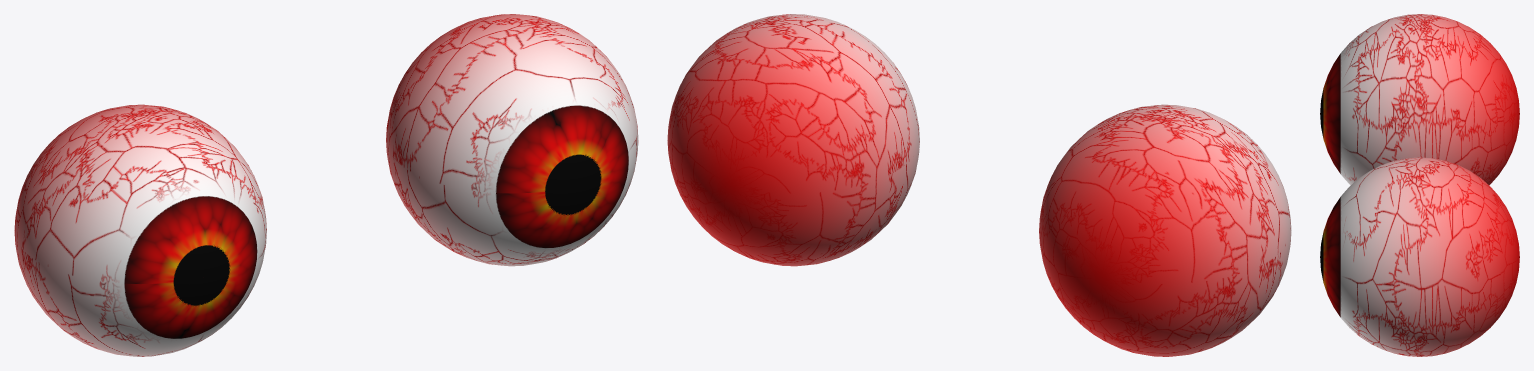
Rendered from Thwomp42ef_eyes.fbx.
3 renders of one model, left to right at view 1: azimuth 30°, elevation 25°; view 2: azimuth 150°, elevation 25°; view 3: azimuth 270°, elevation 25°, orthographic. The views are drawn at different scales.
Visible parts, largest first — view 1: thwomp.eyeball.L, thwomp.eyeball.R; view 2: thwomp.eyeball.L, thwomp.eyeball.R; view 3: thwomp.eyeball.L, thwomp.eyeball.R.
Boxes of the visible parts, <box> form: thwomp.eyeball.L: <box>386,14,638,266</box>; thwomp.eyeball.R: <box>14,104,266,356</box>; thwomp.eyeball.L: <box>667,14,919,266</box>; thwomp.eyeball.R: <box>1039,104,1291,356</box>; thwomp.eyeball.L: <box>1320,157,1519,356</box>; thwomp.eyeball.R: <box>1320,14,1519,185</box>.
Bounding box in the file's own units: 113 × 42 × 42.
